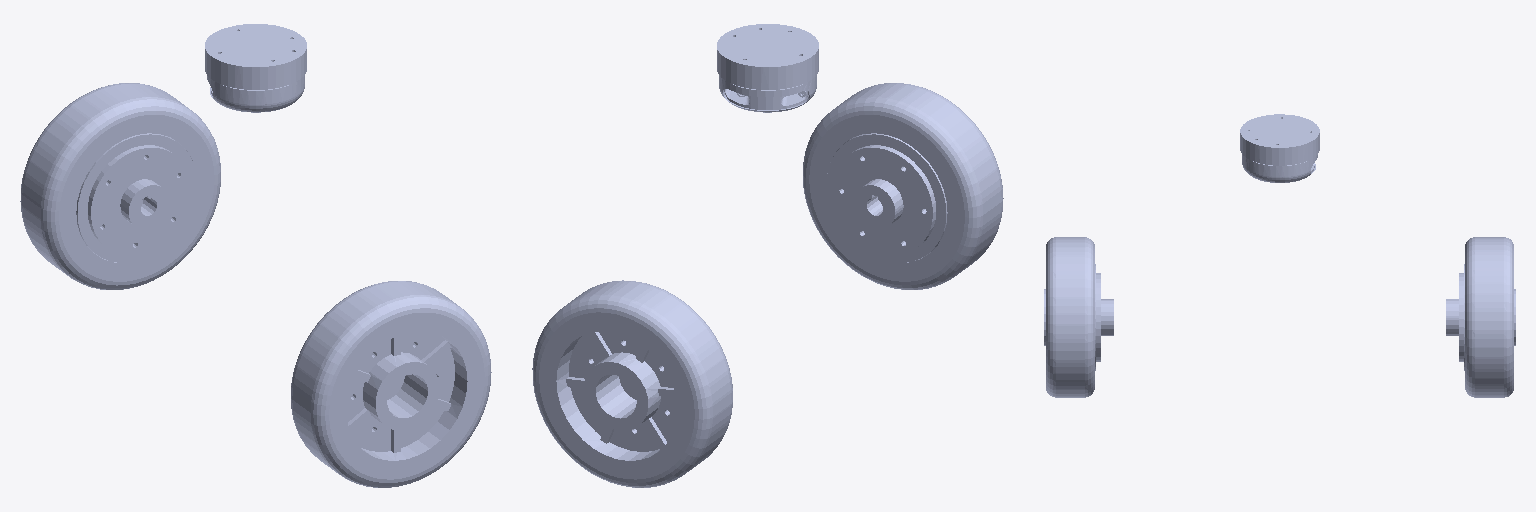
robot.urdf — AMR_2324_Actual:
<?xml version="1.0" encoding="utf-8"?>
<!-- This URDF was automatically created by SolidWorks to URDF Exporter! Originally created by [author] ([email redacted]) 
     Commit Version: 1.6.0-4-g7f85cfe  Build Version: 1.6.7995.38578
     For more information, please see http://wiki.ros.org/sw_urdf_exporter -->
<robot
  name="AMR_2324_Actual">
  <link name="base_footprint"/>
  <link
    name="base_link">
    <inertial>
      <origin
        xyz="0.00495670617101457 -3.93122262730028E-05 0.0805967285703853"
        rpy="0 0 0" />
      <mass
        value="3.43058184138726" />
      <inertia
        ixx="0.0217065290281728"
        ixy="5.14187519804064E-07"
        ixz="4.65456170164857E-07"
        iyy="0.027091773698865"
        iyz="3.65712224308167E-08"
        izz="0.0463914497525191" />
    </inertial>
    <visual>
      <origin
        xyz="0 0 0"
        rpy="0 0 0" />
      <geometry>
        <mesh
          filename="package://test/meshes/base_link.STL" />
      </geometry>
      <material
        name="">
        <color
          rgba="0.792156862745098 0.819607843137255 0.933333333333333 1" />
      </material>
    </visual>
    <collision>
      <origin
        xyz="0 0 0"
        rpy="0 0 0" />
      <geometry>
        <mesh
          filename="package://test/meshes/base_link.STL" />
      </geometry>
    </collision>
  </link>
  <link
    name="RW_L">
    <inertial>
      <origin
        xyz="2.66467738960547E-07 0.00383235864946171 -4.45587877122289E-06"
        rpy="0 0 0" />
      <mass
        value="0.736007799625819" />
      <inertia
        ixx="0.00120641870008293"
        ixy="1.26141462882857E-09"
        ixz="2.78287553132448E-09"
        iyy="0.00221956762579341"
        iyz="-2.9926151682298E-09"
        izz="0.00120644698583687" />
    </inertial>
    <visual>
      <origin
        xyz="0 0 0"
        rpy="0 0 0" />
      <geometry>
        <mesh
          filename="package://test/meshes/RW_L.STL" />
      </geometry>
      <material
        name="">
        <color
          rgba="0.792156862745098 0.819607843137255 0.933333333333333 1" />
      </material>
    </visual>
    <collision>
      <origin
        xyz="0 0 0"
        rpy="0 0 0" />
      <geometry>
        <mesh
          filename="package://test/meshes/RW_L.STL" />
      </geometry>
    </collision>
  </link>
  <joint
    name="dummy"
    type="fixed">
    <origin
      xyz="0 0 0.034"
      rpy="0 0 0" />
    <parent
      link="base_footprint" />
    <child
      link="base_link" />
    
  </joint>
  <joint
    name="RW_J"
    type="continuous">
    <origin
      xyz="0 -0.199 0.039"
      rpy="0 0 0" />
    <parent
      link="base_link" />
    <child
      link="RW_L" />
    <axis
      xyz="0 1 0" />
  </joint>
  <link
    name="LW_L">
    <inertial>
      <origin
        xyz="1.46067622610287E-06 -0.00383235864946169 -4.21809028379461E-06"
        rpy="0 0 0" />
      <mass
        value="0.736007799625819" />
      <inertia
        ixx="0.00120642481970078"
        ixy="1.88857674816739E-11"
        ixz="-1.19746681858919E-08"
        iyy="0.0022195676257934"
        iyz="3.24754611033204E-09"
        izz="0.00120644086621902" />
    </inertial>
    <visual>
      <origin
        xyz="0 0 0"
        rpy="0 0 0" />
      <geometry>
        <mesh
          filename="package://test/meshes/LW_L.STL" />
      </geometry>
      <material
        name="">
        <color
          rgba="0.792156862745098 0.819607843137255 0.933333333333333 1" />
      </material>
    </visual>
    <collision>
      <origin
        xyz="0 0 0"
        rpy="0 0 0" />
      <geometry>
        <mesh
          filename="package://test/meshes/LW_L.STL" />
      </geometry>
    </collision>
  </link>
  <joint
    name="LW_J"
    type="continuous">
    <origin
      xyz="0 0.199 0.039"
      rpy="0 0 0" />
    <parent
      link="base_link" />
    <child
      link="LW_L" />
    <axis
      xyz="0 -1 0" />
  </joint>
  <link
    name="LIDAR_L">
    <inertial>
      <origin
        xyz="0.00041596919524475 -0.000875014530154394 0.0122148145709998"
        rpy="0 0 0" />
      <mass
        value="0.163065615480873" />
      <inertia
        ixx="6.04516900611549E-05"
        ixy="-1.27232106135766E-07"
        ixz="-1.02089102228845E-07"
        iyy="6.07122582492224E-05"
        iyz="2.1858304692035E-07"
        izz="0.000107589136881171" />
    </inertial>
    <visual>
      <origin
        xyz="0 0 0"
        rpy="0 0 0" />
      <geometry>
        <mesh
          filename="package://test/meshes/LIDAR_L.STL" />
      </geometry>
      <material
        name="">
        <color
          rgba="0.792156862745098 0.819607843137255 0.933333333333333 1" />
      </material>
    </visual>
    <collision>
      <origin
        xyz="0 0 0"
        rpy="0 0 0" />
      <geometry>
        <mesh
          filename="package://test/meshes/LIDAR_L.STL" />
      </geometry>
    </collision>
  </link>
  <joint
    name="LIDAR_J"
    type="fixed">
    <origin
      xyz="0 0 0.2027"
      rpy="0 0 0" />
    <parent
      link="base_link" />
    <child
      link="LIDAR_L" />
    <axis
      xyz="0 0 0" />
  </joint>
</robot>

--- Render facts (derived) ---
3 views of the same robot in one strip: view 1: azimuth 30°, elevation 25°; view 2: azimuth 150°, elevation 25°; view 3: azimuth 270°, elevation 25° (orthographic).
Robot: AMR_2324_Actual — 5 links, 4 joints (2 continuous, 2 fixed); root link base_footprint; default pose: every joint at zero.
Links seen in each view (by area): view 1: RW_L, LW_L, LIDAR_L; view 2: RW_L, LW_L, LIDAR_L; view 3: LW_L, RW_L, LIDAR_L.
Link boxes in pixels (left/top/right/bottom): RW_L: left=291, top=281, right=491, bottom=487; LW_L: left=20, top=83, right=220, bottom=289; LIDAR_L: left=205, top=24, right=306, bottom=112; RW_L: left=803, top=83, right=1003, bottom=289; LW_L: left=532, top=280, right=732, bottom=487; LIDAR_L: left=717, top=24, right=818, bottom=112; LW_L: left=1446, top=237, right=1515, bottom=397; RW_L: left=1044, top=237, right=1113, bottom=397; LIDAR_L: left=1240, top=114, right=1319, bottom=182.
Size in the robot's own frame: 0.1524 by 0.447 by 0.2712 metres.
Meshes: 4 distinct files referenced, 3 mesh visuals loaded (3 binary STL); not drawn: 1 (reference not matched to a file when rendering).